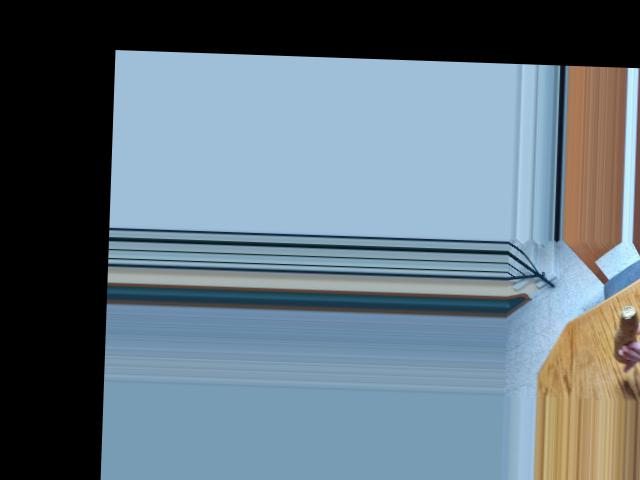sweet_potato: (613, 315, 640, 360)
